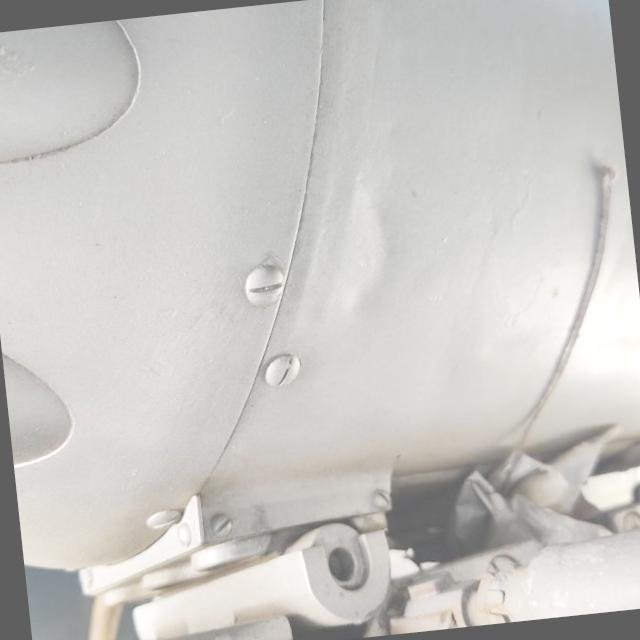dent: (292, 165, 430, 336)
